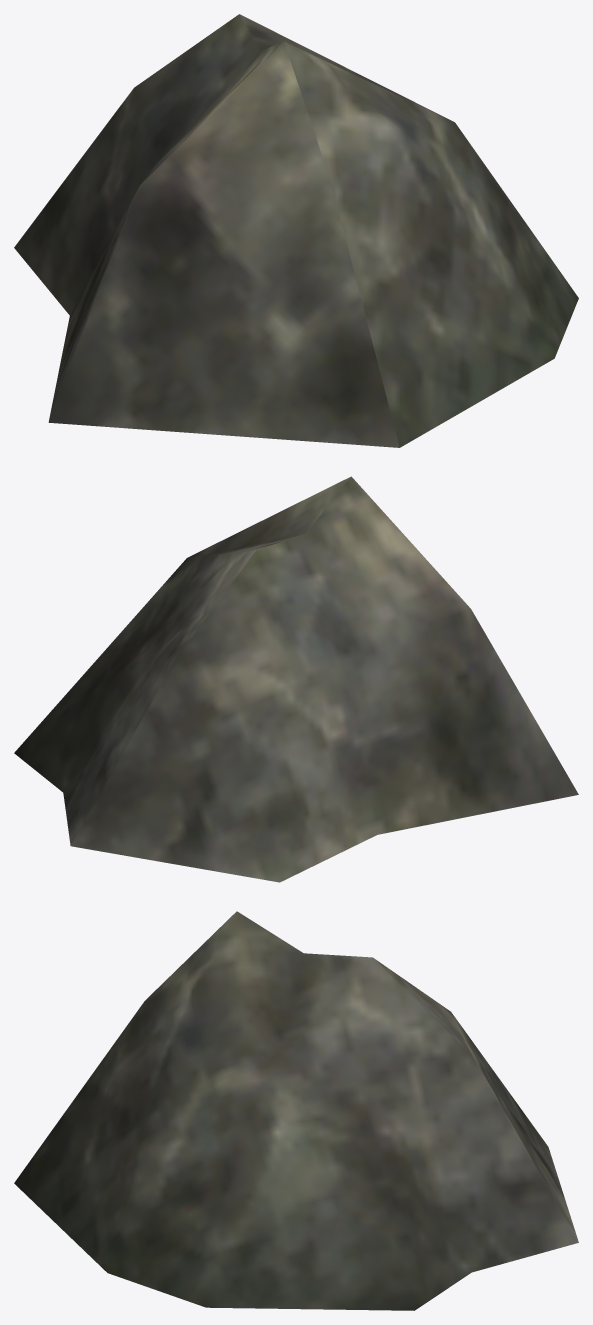
Rendered from yw_roc008.FBX.
3 views of the same model, one above another, from view 1: azimuth 30°, elevation 25°; view 2: azimuth 150°, elevation 25°; view 3: azimuth 270°, elevation 25° (orthographic). The views are drawn at different scales.
Parts seen in each view (by area): view 1: yw_roc008; view 2: yw_roc008; view 3: yw_roc008.
Part boxes in pixels (left/top/right/bottom): yw_roc008: left=14, top=14, right=578, bottom=447; yw_roc008: left=14, top=476, right=578, bottom=882; yw_roc008: left=14, top=911, right=578, bottom=1310.
Size of the model in its own units: 3.52 by 1.97 by 3.65.
